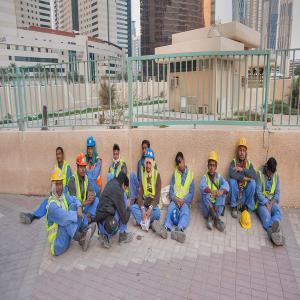blue: (144, 148, 156, 173), (86, 136, 97, 159)
none: (266, 156, 279, 180), (118, 171, 130, 194), (176, 151, 187, 173), (112, 144, 122, 164), (56, 146, 65, 166), (141, 140, 151, 158)
red: (76, 153, 88, 179)
yellow: (51, 168, 65, 200), (237, 138, 250, 163), (208, 150, 220, 177)
